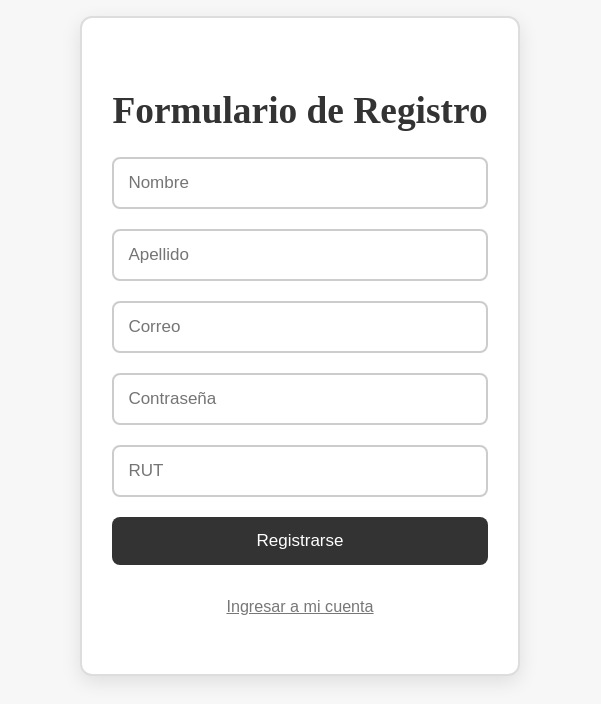
Test: Registro exitoso › muestra mensaje de exito si todos los datos son correctos
Type "carlos" into the field with placeholder "Nombre" at (300, 183), box [112,157,488,209]
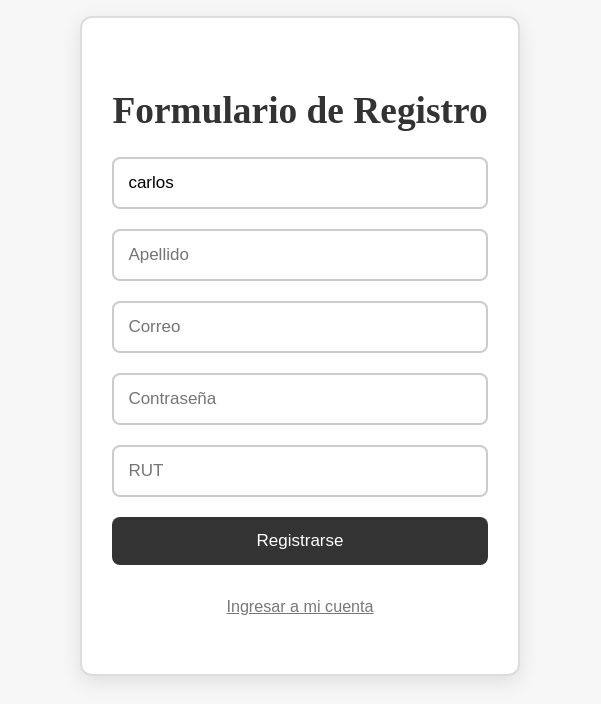
Type "abarzua" into the field with placeholder "Apellido" at (300, 255), box [112,229,488,281]
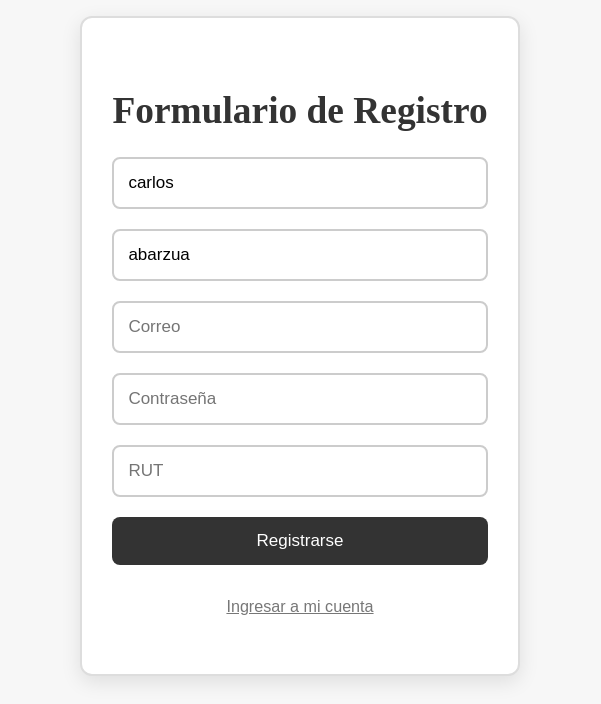
Type "c.abarzua@duocuc.cl" into the field with placeholder "Correo" at (300, 327), box [112,301,488,353]
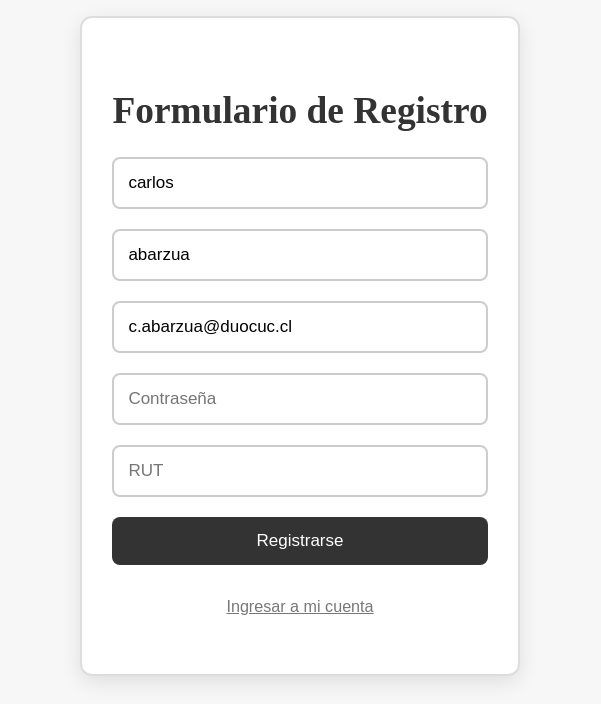
Type "carlos321*" into the password field with placeholder "Contraseña" at (300, 399), box [112,373,488,425]
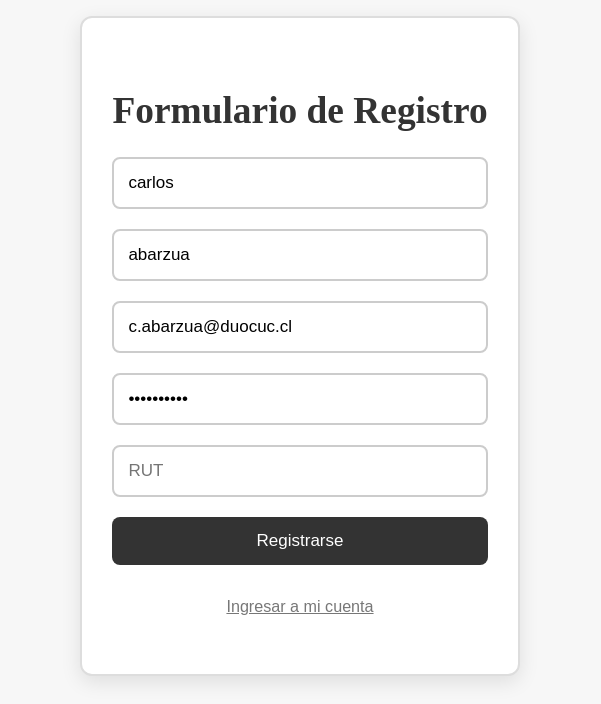
Type "104920489" into the field with placeholder "RUT" at (300, 471), box [112,445,488,497]
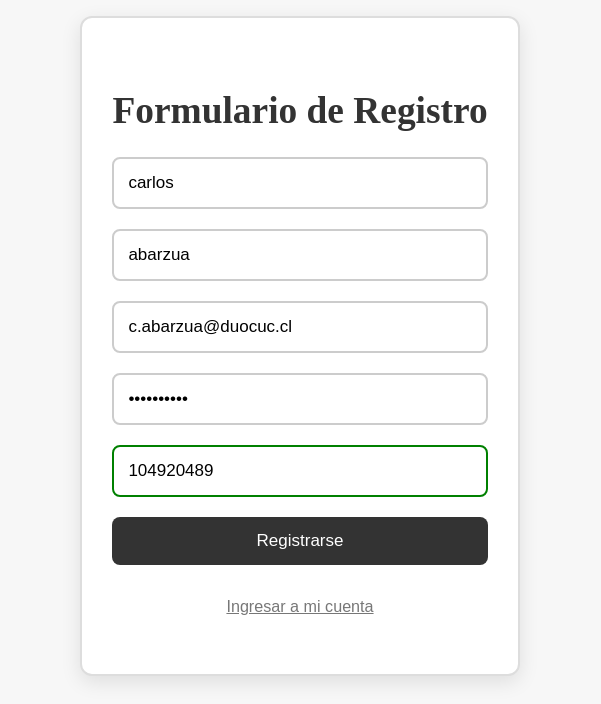
Click the button "Registrarse" at (300, 541), box [112,517,488,565]
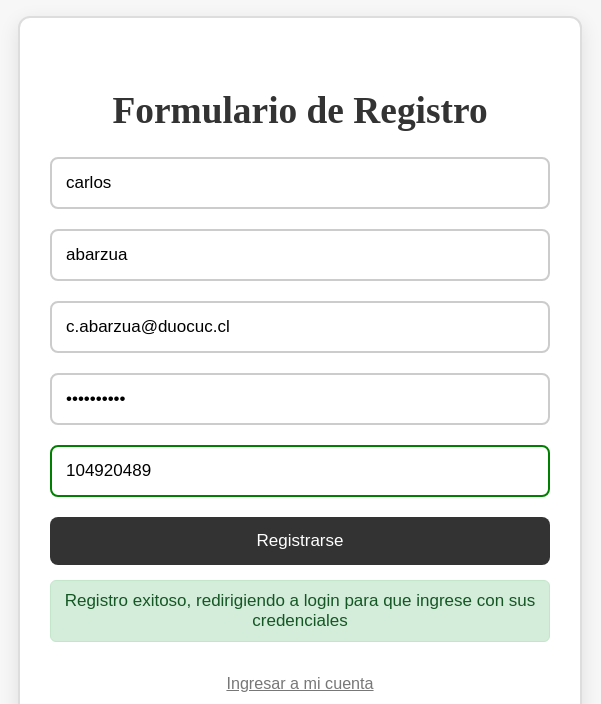
Now the text "Registro exitoso" is shown, box [65,591,535,630]
